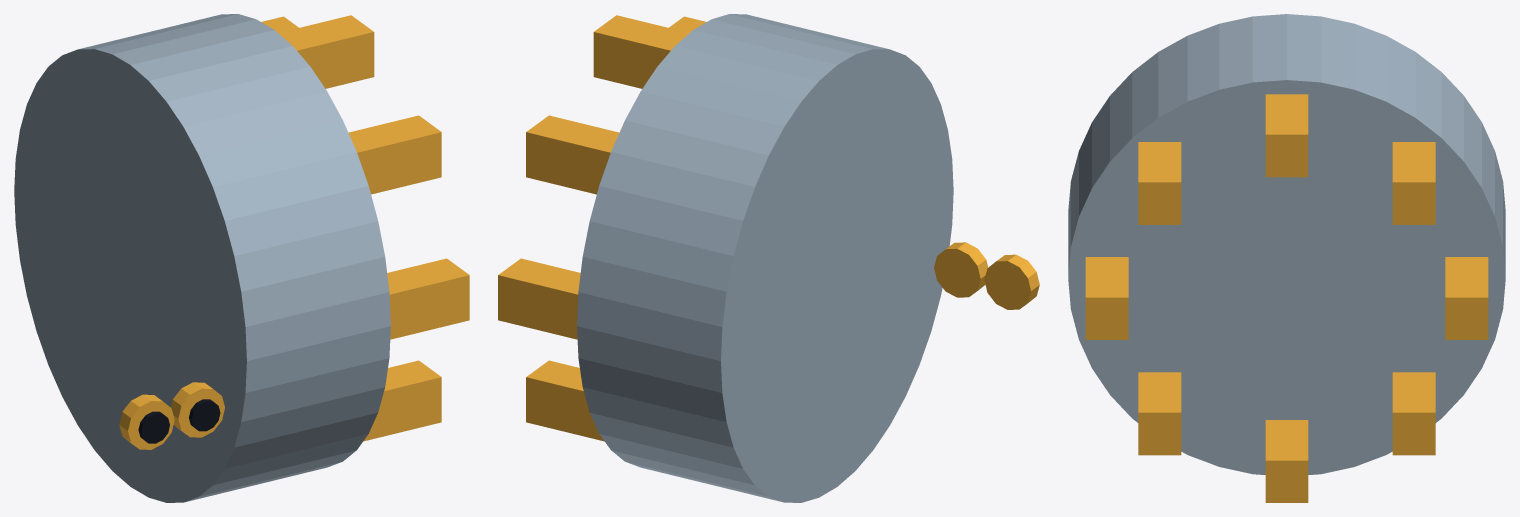
File: 39_L86_AutomaticEndEffectorToolChanger.fbx
3 renders of one model, left to right at view 1: azimuth 30°, elevation 25°; view 2: azimuth 150°, elevation 25°; view 3: azimuth 270°, elevation 25°, orthographic. The views are drawn at different scales.
Parts seen in each view (by area): view 1: L86_AutomaticEndEffectorToolChanger_Part_0000, L86_AutomaticEndEffectorToolChanger_Part_0001, L86_AutomaticEndEffectorToolChanger_Part_0002, L86_AutomaticEndEffectorToolChanger_Part_0004, L86_AutomaticEndEffectorToolChanger_Part_0003, L86_AutomaticEndEffectorToolChanger_Part_0005; view 2: L86_AutomaticEndEffectorToolChanger_Part_0000, L86_AutomaticEndEffectorToolChanger_Part_0001, L86_AutomaticEndEffectorToolChanger_Part_0002, L86_AutomaticEndEffectorToolChanger_Part_0004; view 3: L86_AutomaticEndEffectorToolChanger_Part_0000, L86_AutomaticEndEffectorToolChanger_Part_0001.
Part boxes in pixels (x1,y1,x2,y2): L86_AutomaticEndEffectorToolChanger_Part_0000: (14, 14, 390, 502); L86_AutomaticEndEffectorToolChanger_Part_0001: (261, 15, 469, 441); L86_AutomaticEndEffectorToolChanger_Part_0002: (119, 394, 174, 449); L86_AutomaticEndEffectorToolChanger_Part_0004: (171, 382, 224, 437); L86_AutomaticEndEffectorToolChanger_Part_0003: (138, 411, 169, 443); L86_AutomaticEndEffectorToolChanger_Part_0005: (189, 399, 220, 431); L86_AutomaticEndEffectorToolChanger_Part_0000: (577, 14, 953, 502); L86_AutomaticEndEffectorToolChanger_Part_0001: (498, 15, 706, 441); L86_AutomaticEndEffectorToolChanger_Part_0002: (984, 254, 1039, 309); L86_AutomaticEndEffectorToolChanger_Part_0004: (934, 242, 987, 297); L86_AutomaticEndEffectorToolChanger_Part_0000: (1068, 14, 1505, 474); L86_AutomaticEndEffectorToolChanger_Part_0001: (1085, 94, 1488, 502).
Size of the model in its own units: 93 by 112 by 112.
